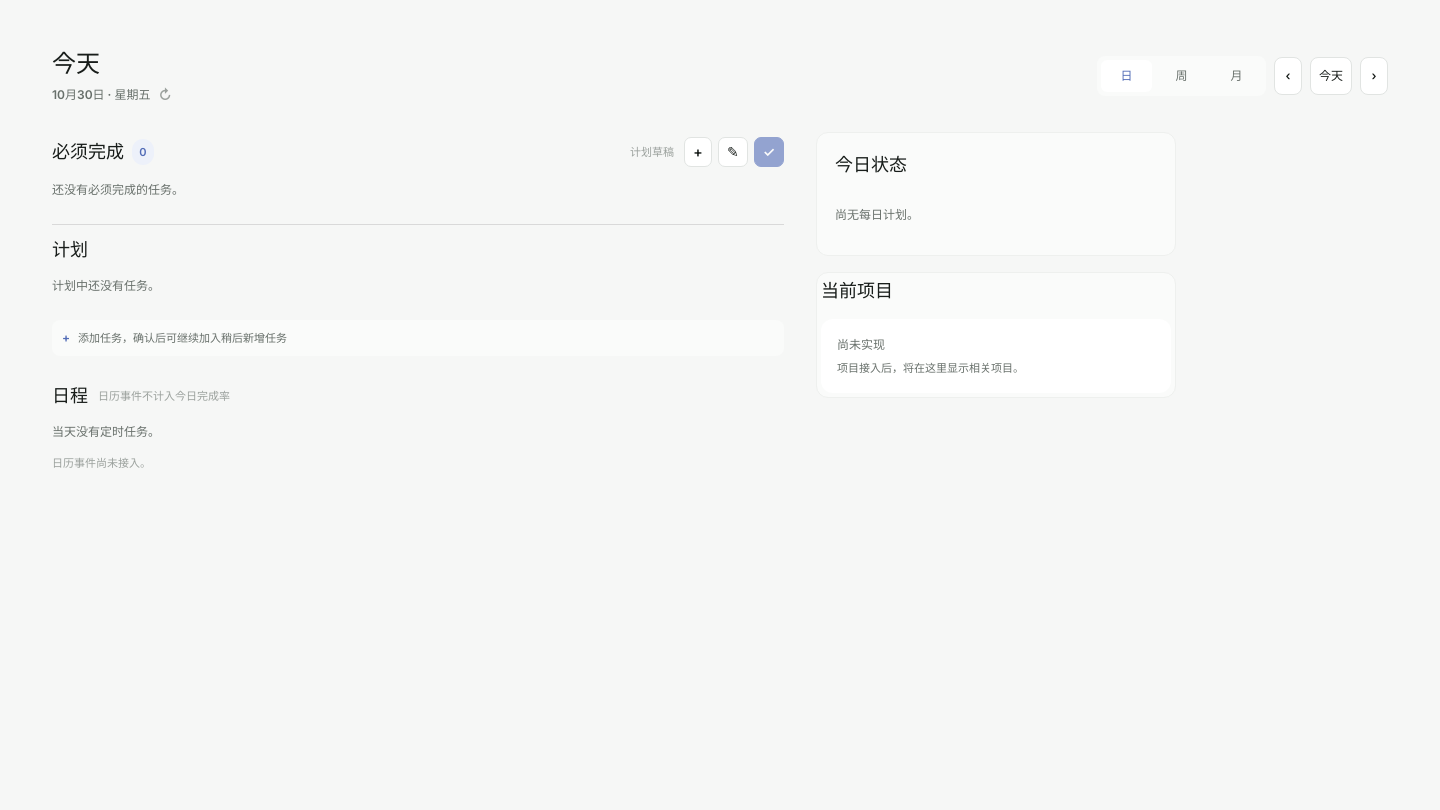
it: Today Desktop › keeps a failed Commit in the confirmation dialog and retries the same command
The width and height of the screenshot is (1440, 810).
Check: the text "计划草稿" is shown, box 630,143 -> 674,161
Click the button "+ 添加任务，确认后可继续加入稍后新增任务": click(183, 338) 52,320 -> 784,356
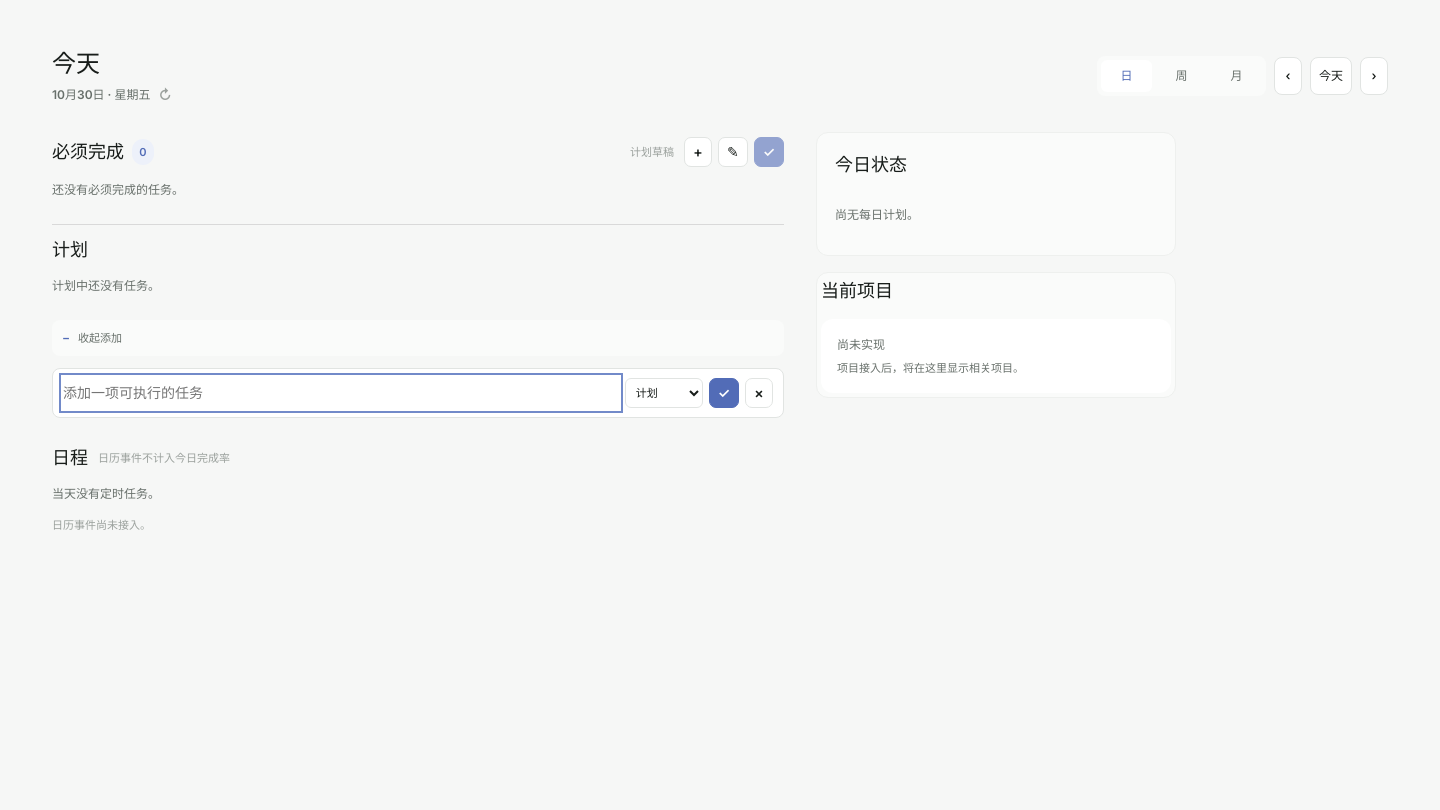
In the field named "任务名称": (341, 393) 63,377 -> 619,409, type "Retry confirm"
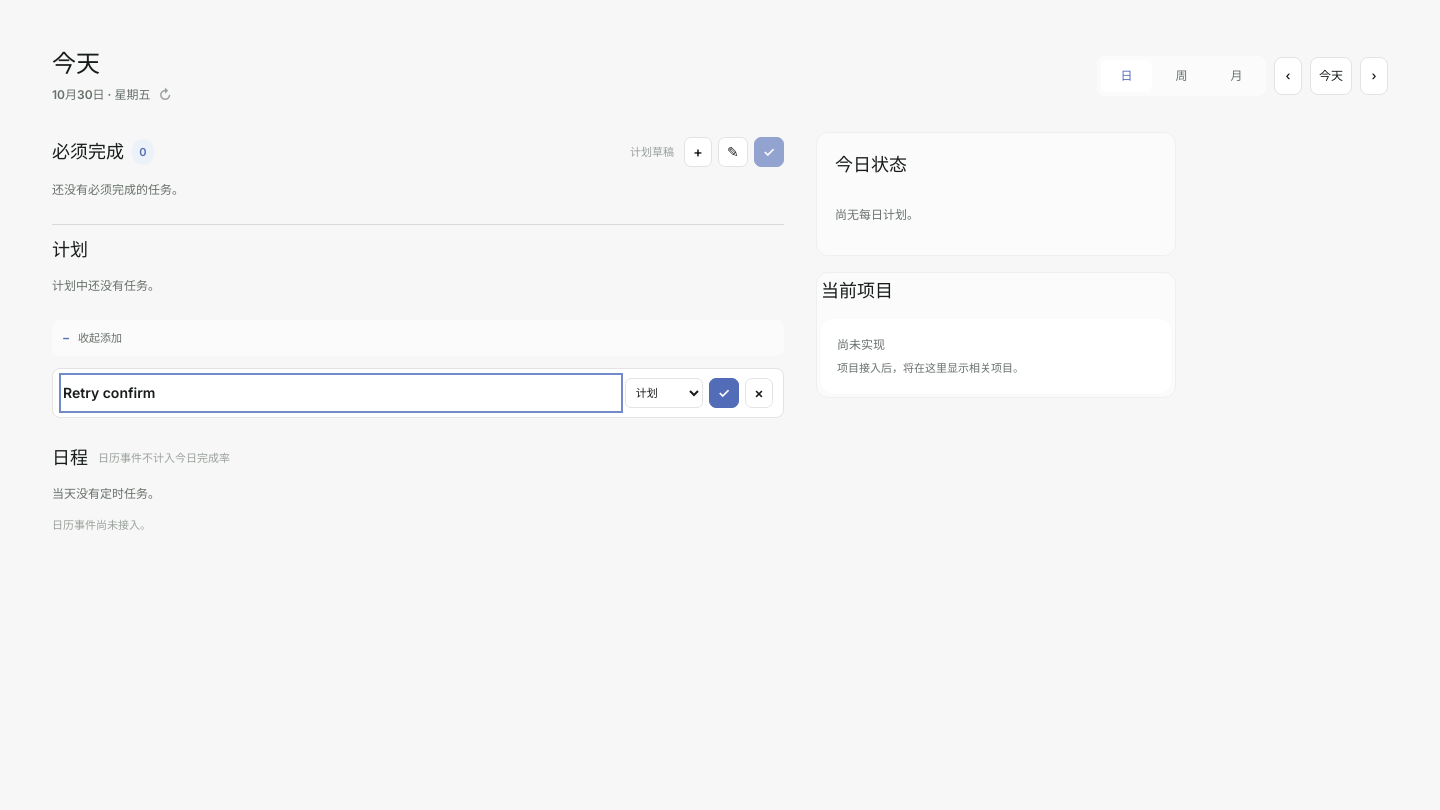
Click the button named "创建并加入草稿": click(724, 393) 709,378 -> 739,408
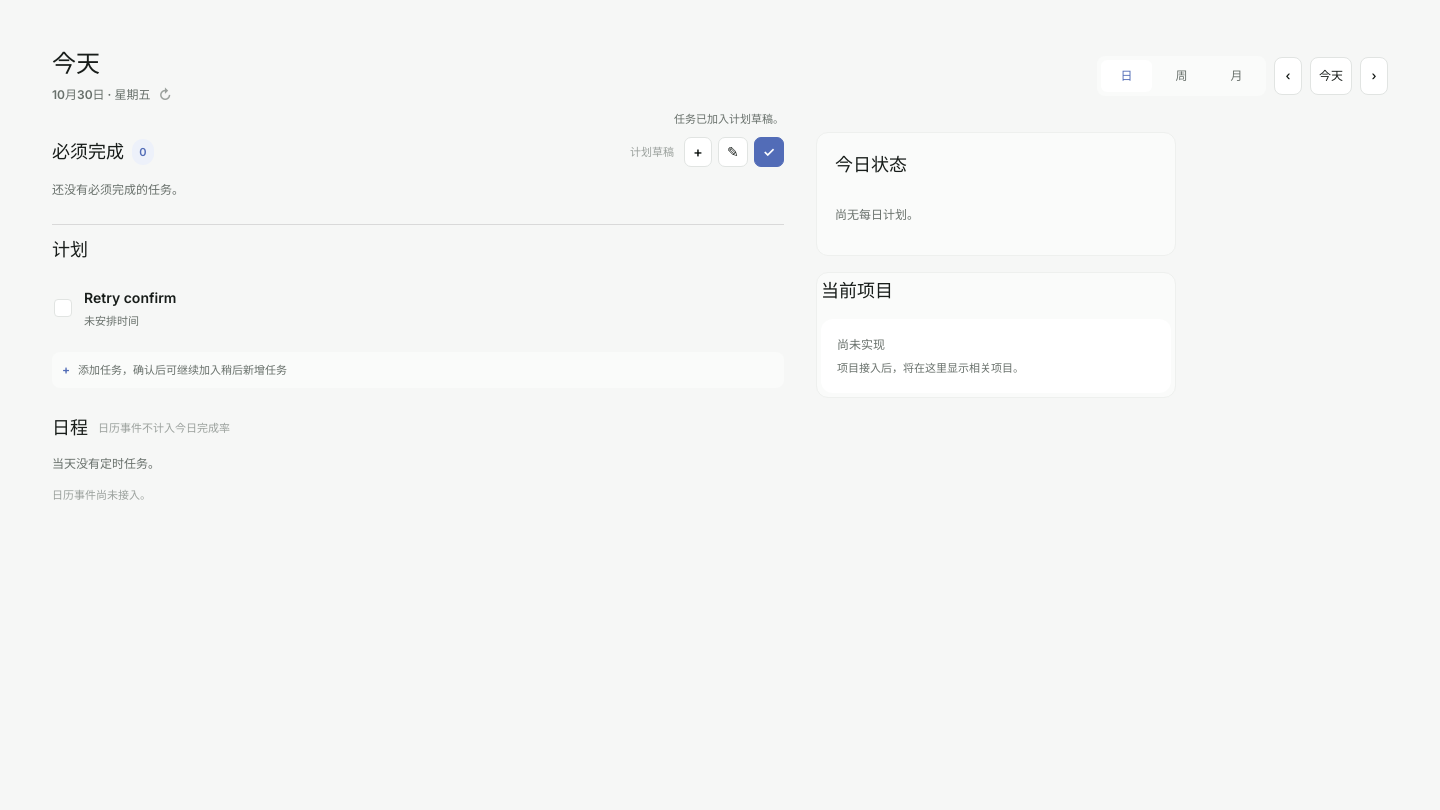
Check: the field labelled "任务名称" is not shown
Check: the text "Retry confirm" is shown, box 84,289 -> 176,306
Click the button named "确认今日计划": click(769, 152) 754,137 -> 784,167
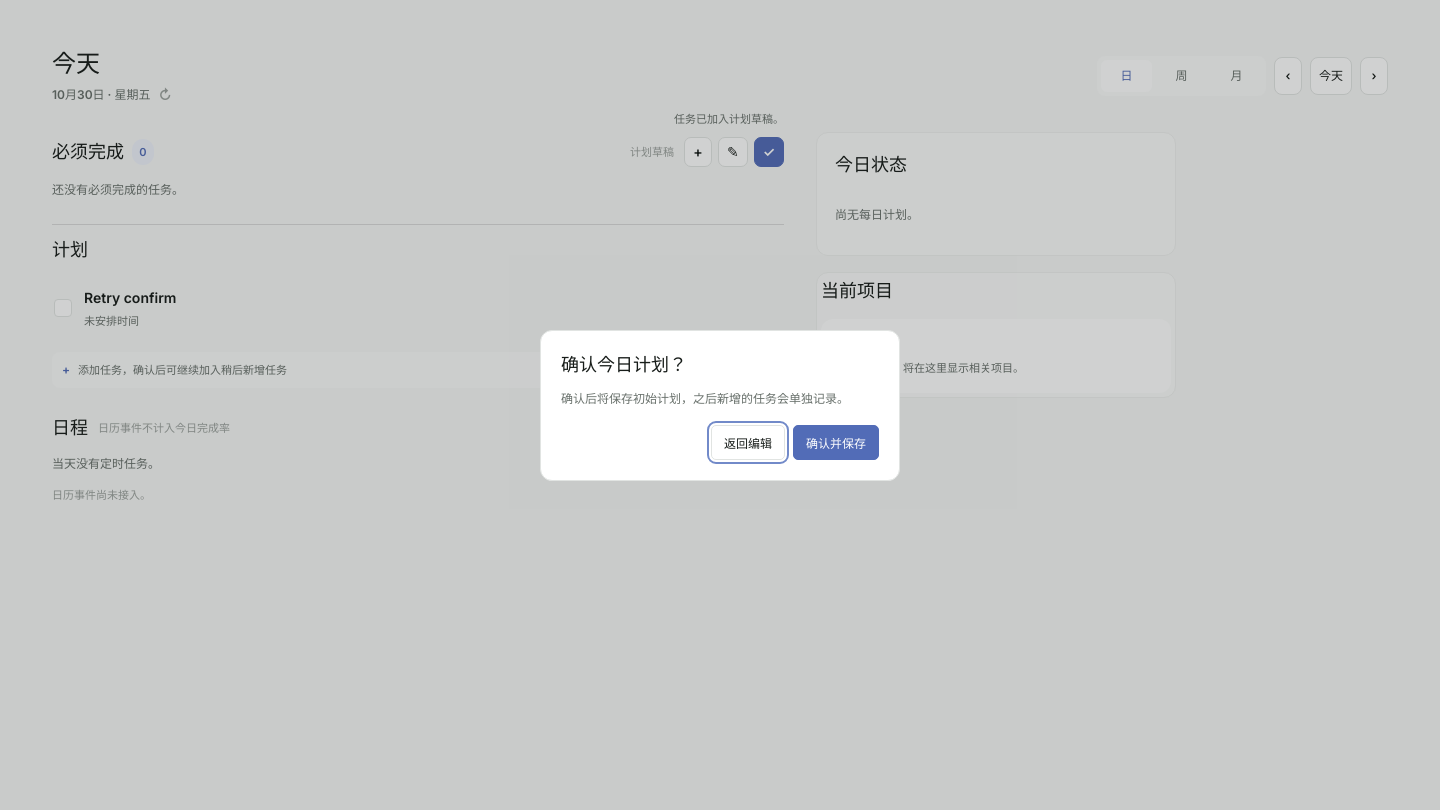
Click the button "确认并保存": click(836, 442) 793,424 -> 879,460
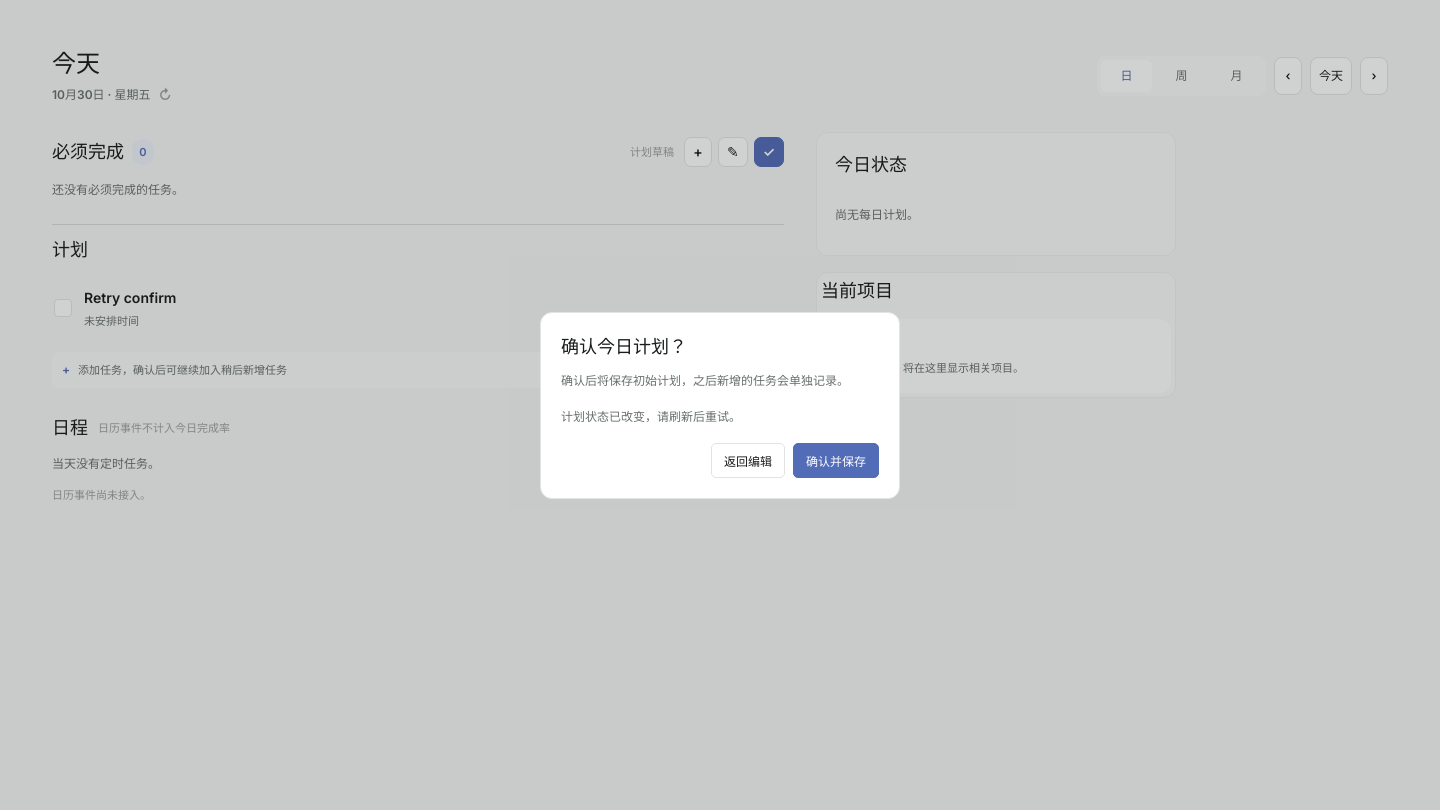
Check: the message "计划状态已改变，请刷新后重试。" is shown, box 561,408 -> 741,424
Click the button "确认并保存": click(836, 460) 793,442 -> 879,478
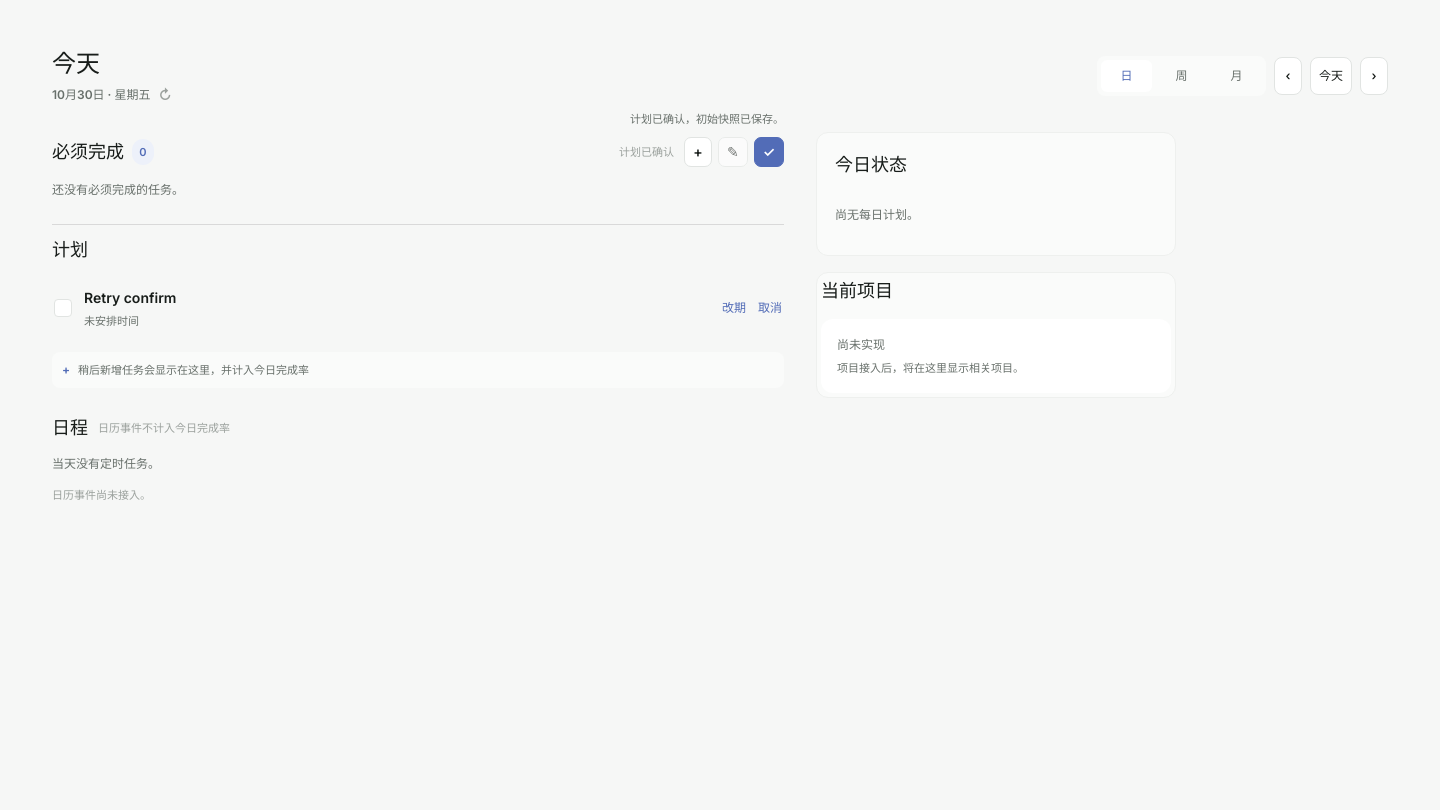
Check: the text "计划已确认" is shown, box 619,143 -> 674,161
Check: the dialog is gone
